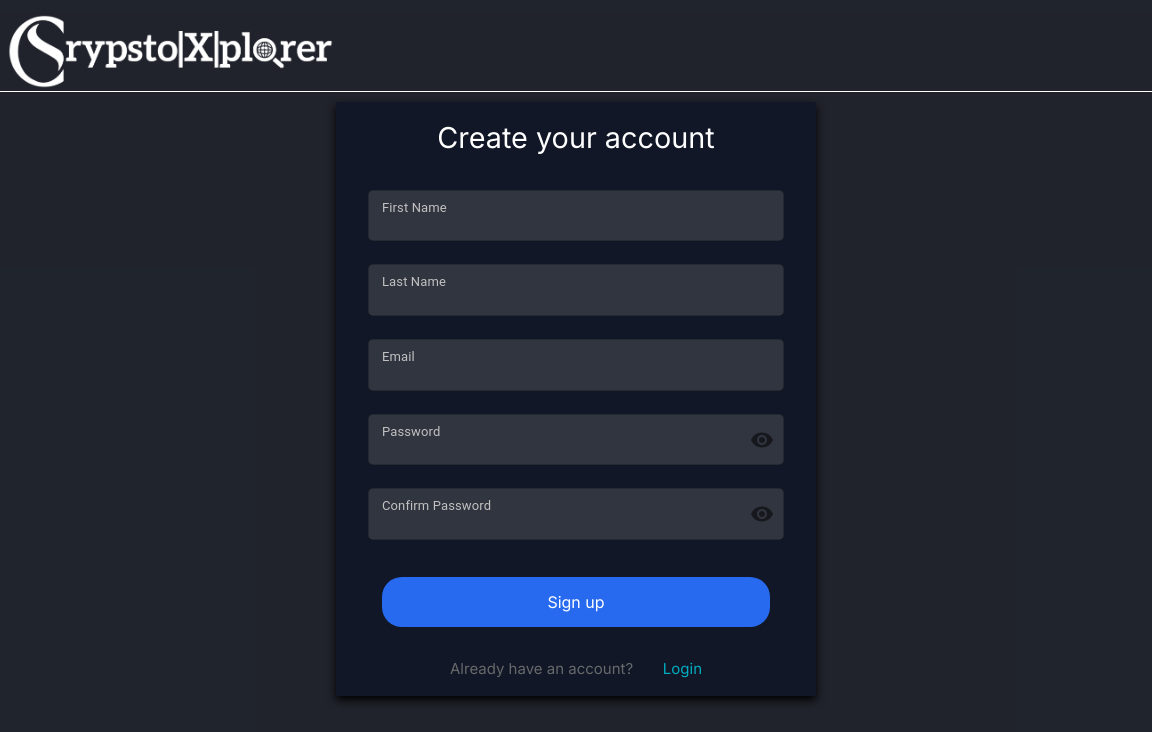
Scenario: User register › register with invalid email
inputs from outlinedinput
Step 1. Type "Kasun" into the element with test id "test-fname" → (576, 216), box [368,190,784,242]
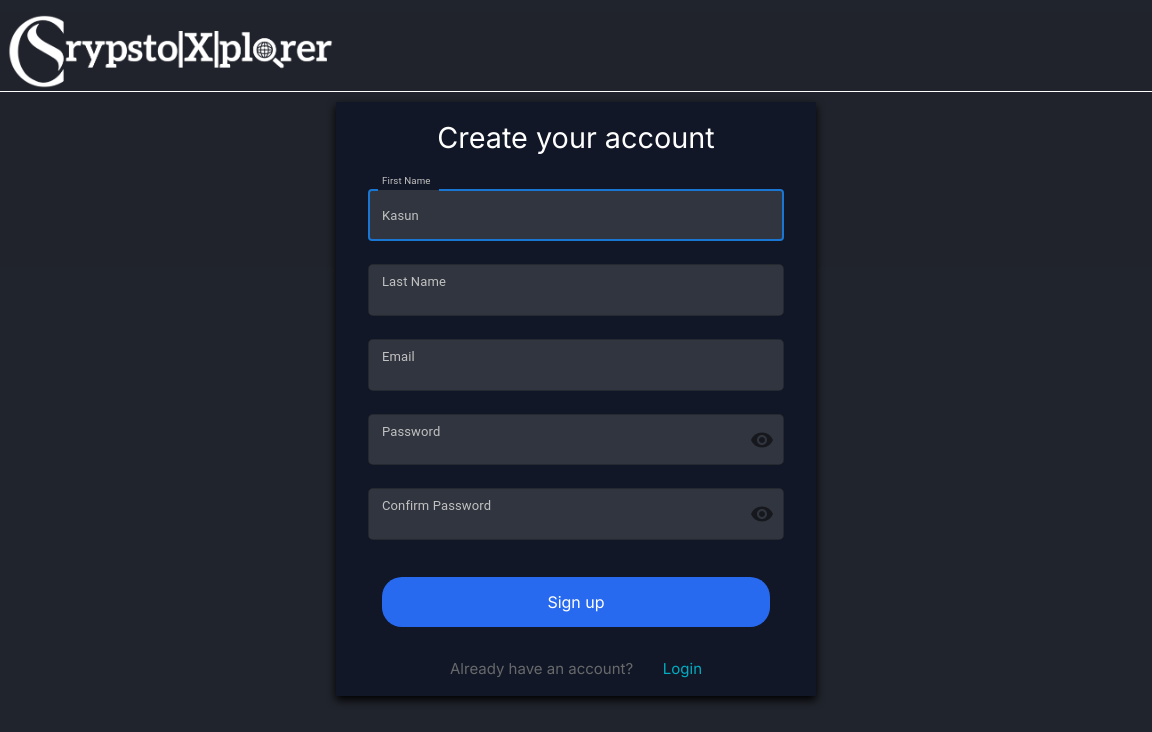
Step 2. Type "Liyanage" into the element with test id "test-lname" → (576, 290), box [368,264,784,316]
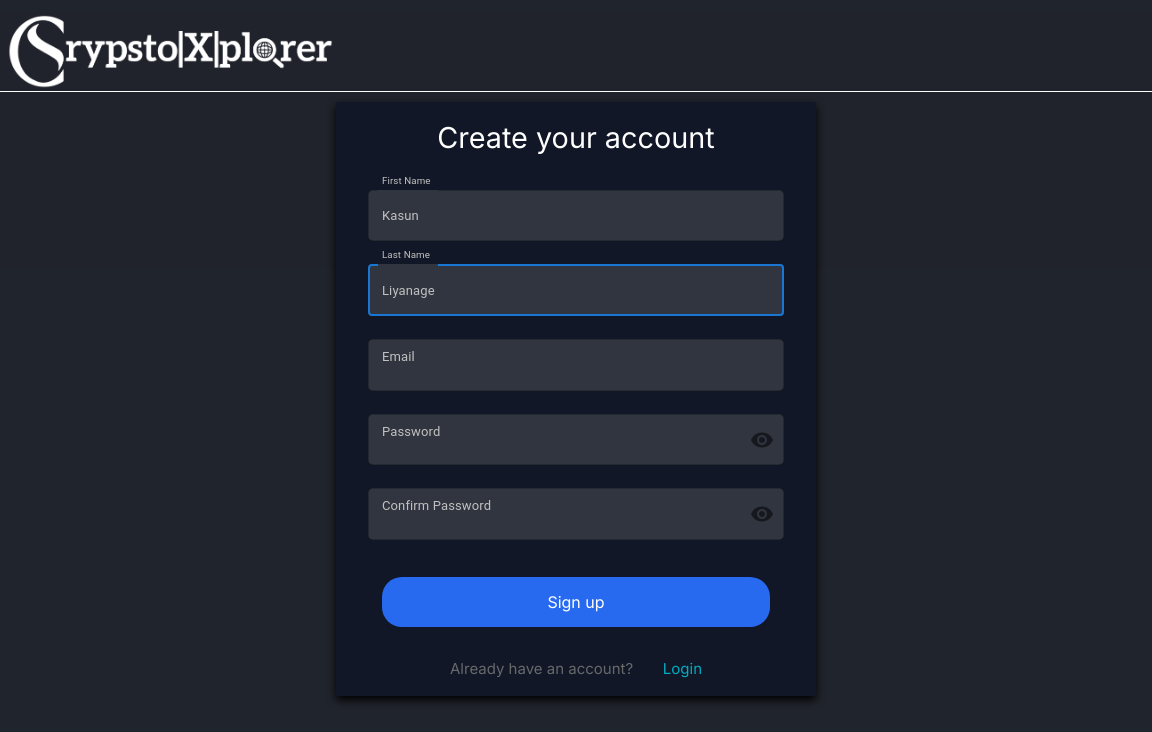
Step 3. Type "nipun99" into the element with test id "test-email" → (576, 365), box [368,339,784,391]
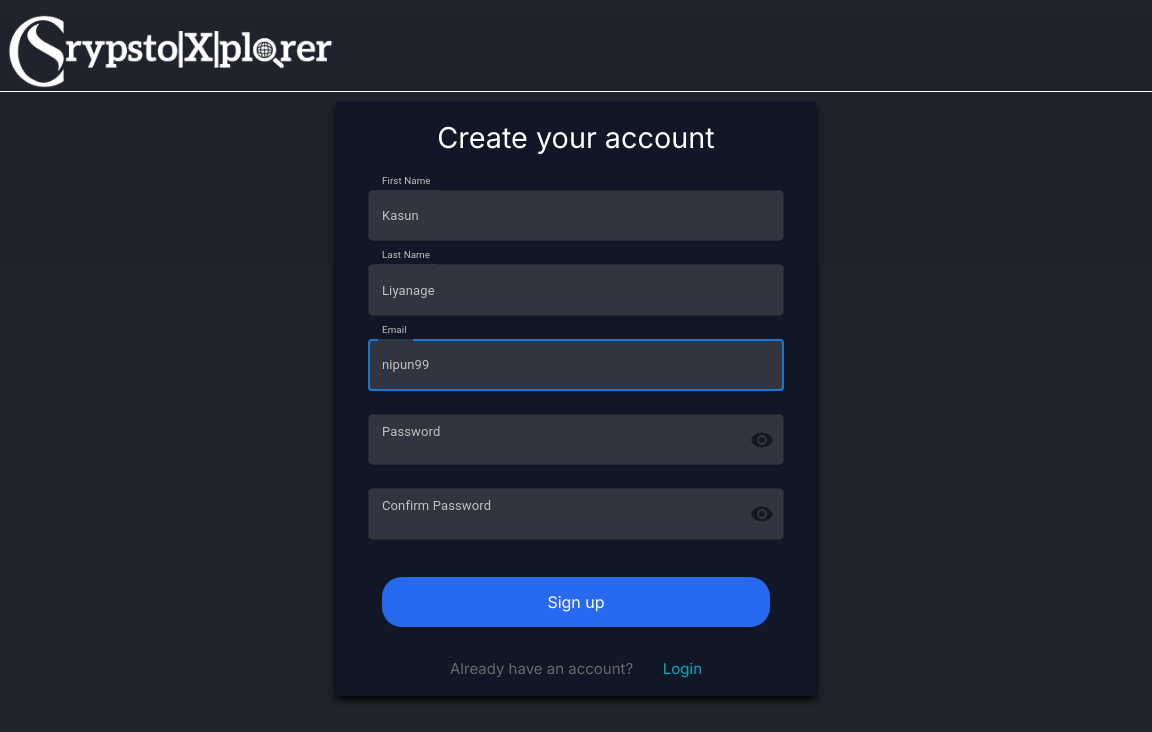
Step 4. Type "IafS@fa12" into the element with test id "test-password" → (576, 440), box [368,414,784,466]
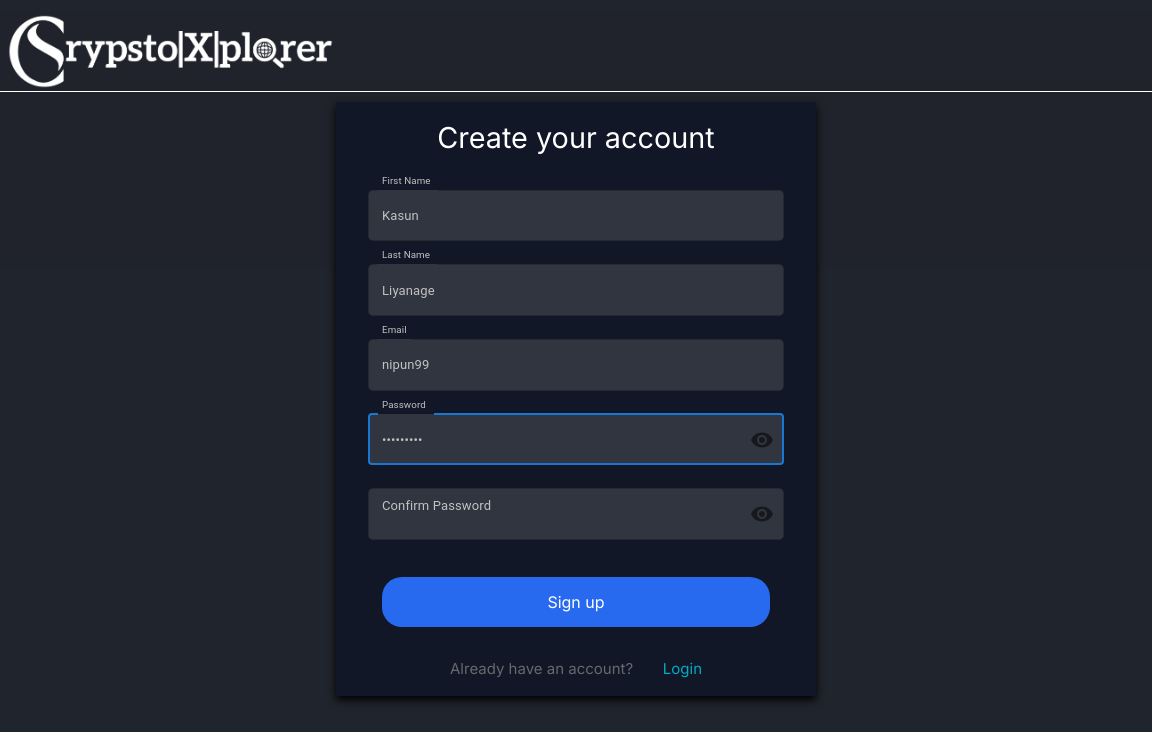
Step 5. Type "IafS@fa12" into the element with test id "test-cpassword" → (576, 514), box [368,488,784,540]
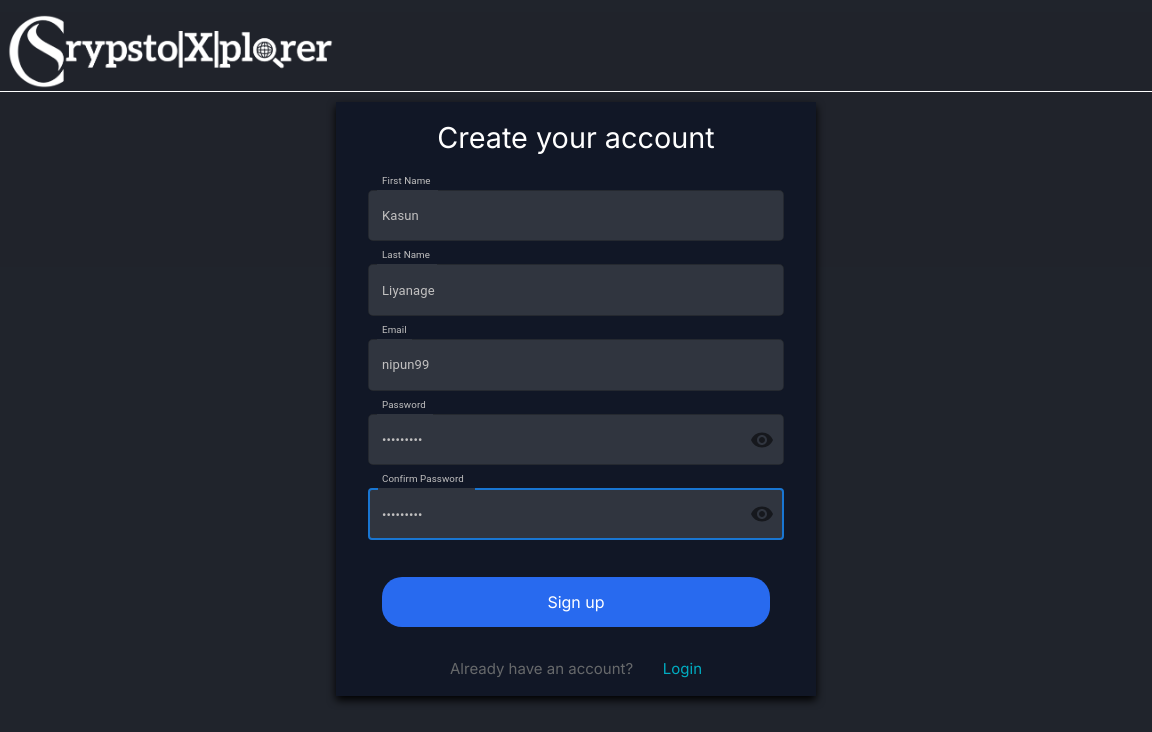
Step 6. Click the button with test id "test-register-elem" → (577, 602), box [382,577,771,627]
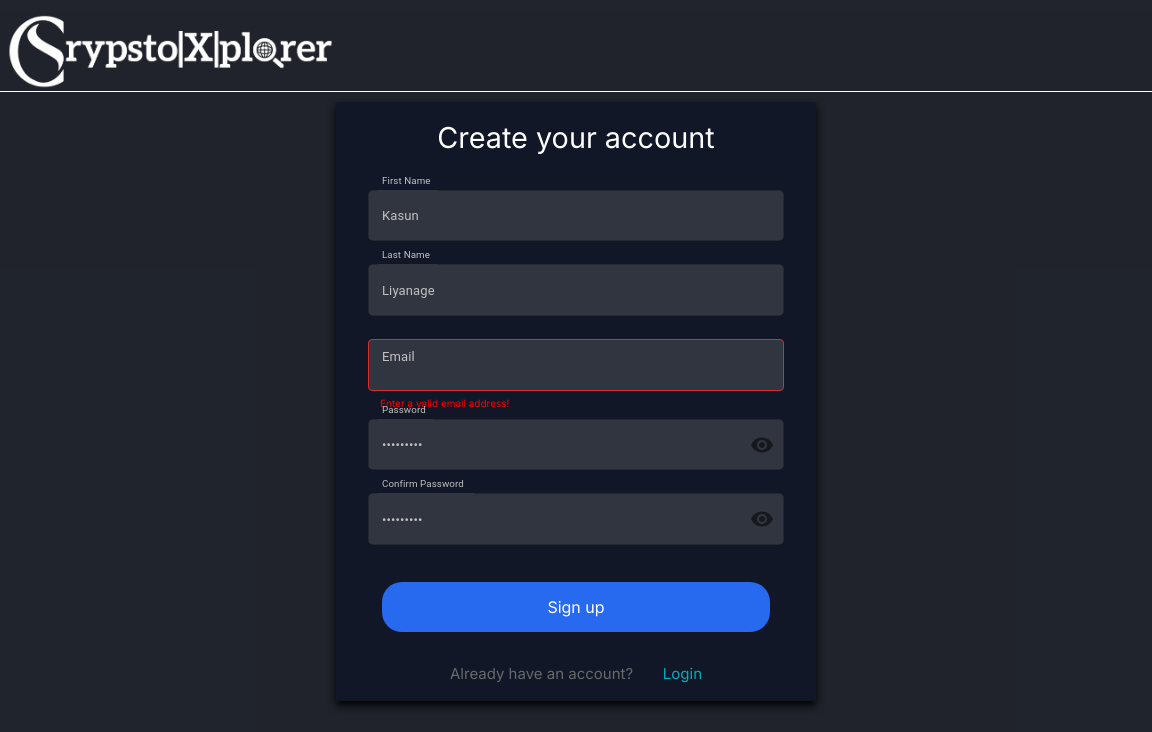
Expected: the text with test id "test-email-error" reads "Enter a valid email address!", [380,397,510,409]
